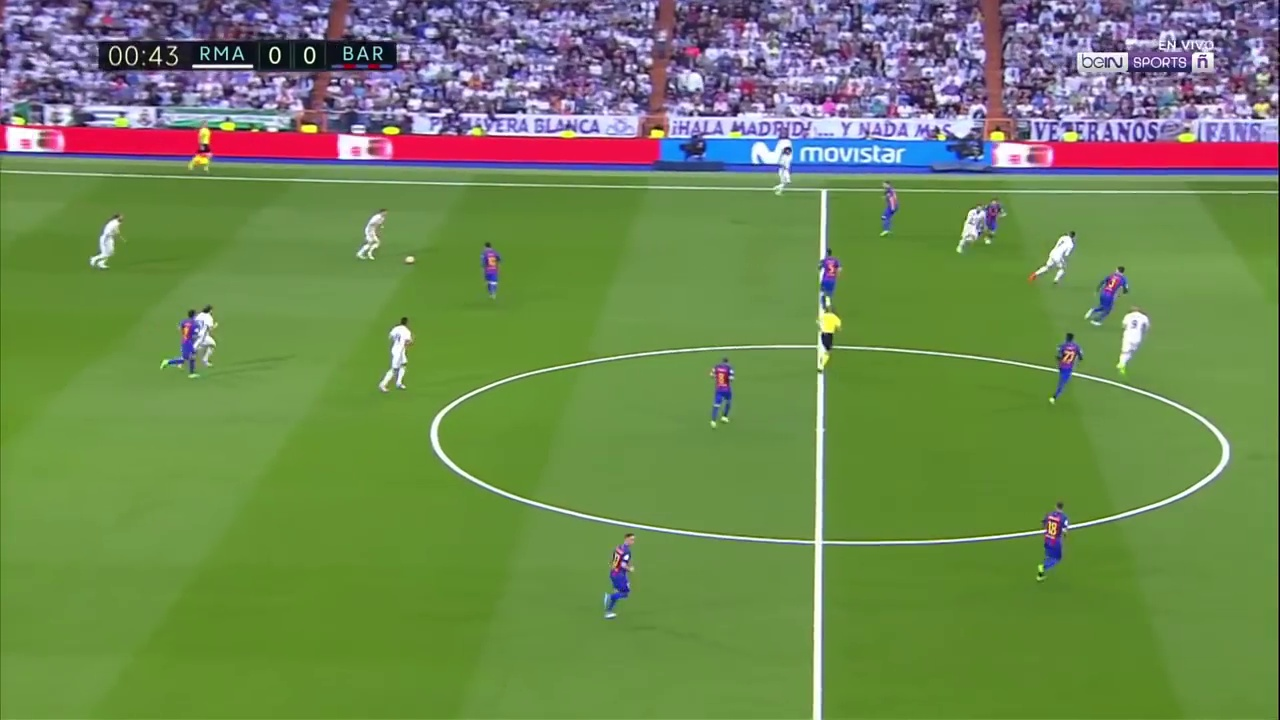ball: (403, 252, 417, 267)
blurry: (477, 239, 507, 300)
player: (1026, 227, 1081, 292), (85, 206, 130, 280), (1047, 329, 1087, 411), (1033, 502, 1071, 587), (601, 530, 637, 619), (378, 313, 417, 393), (1086, 259, 1131, 327), (158, 309, 200, 380), (1116, 303, 1151, 383), (811, 303, 845, 375), (705, 356, 736, 431), (355, 205, 391, 267), (193, 301, 218, 370), (818, 244, 842, 312), (877, 180, 902, 240), (958, 204, 987, 253), (981, 197, 1011, 244), (773, 144, 795, 197)
